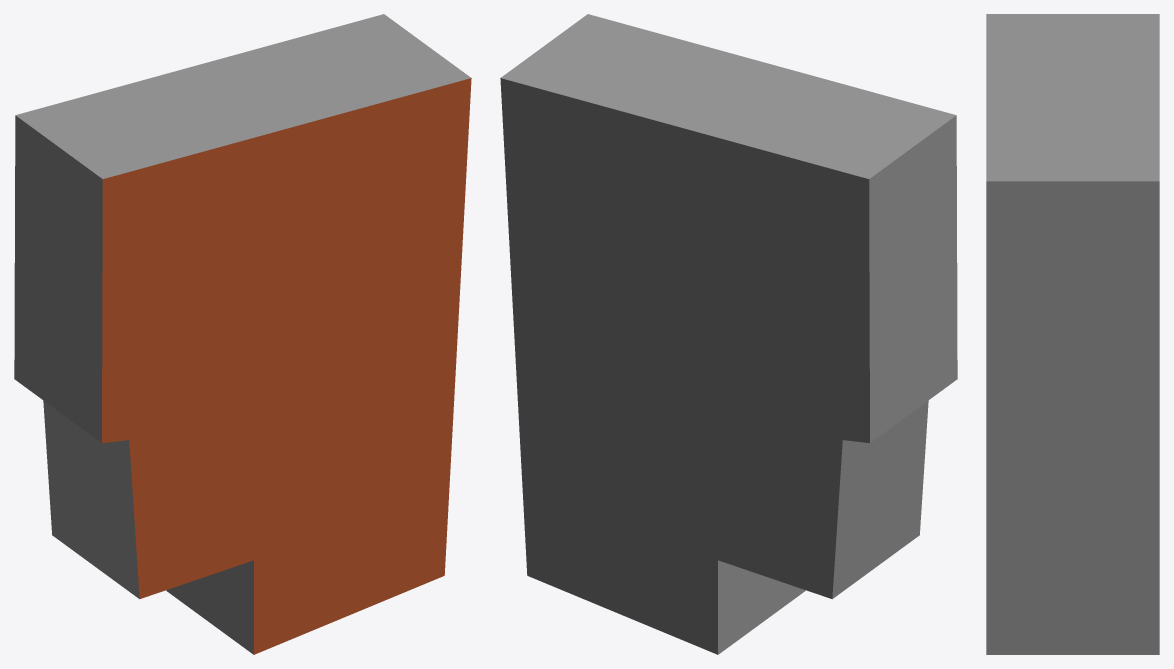
File: construction_1128_assumed_A_Casa_h6m.obj
3 views of the same model, side by side, from view 1: azimuth 30°, elevation 25°; view 2: azimuth 150°, elevation 25°; view 3: azimuth 270°, elevation 25° (orthographic).
Parts seen in each view (by area): view 1: construction_1128_assumed_A_Casa; view 2: construction_1128_assumed_A_Casa; view 3: construction_1128_assumed_A_Casa.
Part boxes in pixels (x1,y1,x2,y2): construction_1128_assumed_A_Casa: [14, 14, 471, 654]; construction_1128_assumed_A_Casa: [500, 14, 957, 654]; construction_1128_assumed_A_Casa: [986, 14, 1159, 654].
Bounding box in the file's own units: 14.64 × 19.82 × 6.
